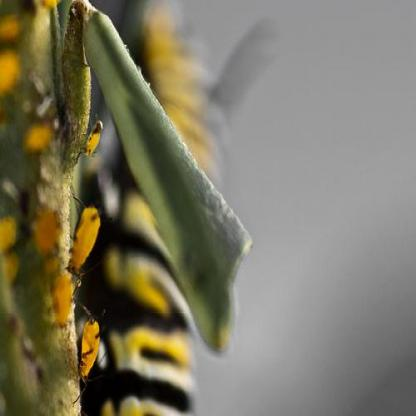aphid: (67, 197, 101, 280), (74, 305, 104, 384), (85, 112, 107, 160)
